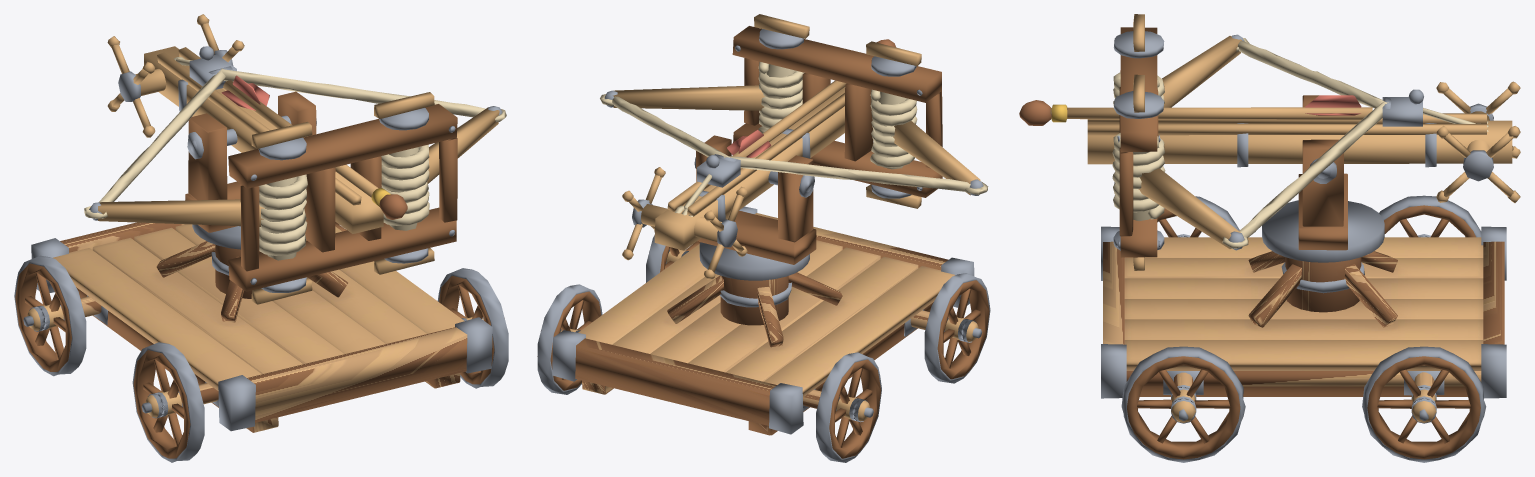
The picture shows the model from 3 angles, left to right: view 1: azimuth 30°, elevation 25°; view 2: azimuth 150°, elevation 25°; view 3: azimuth 270°, elevation 25°; orthographic projection. The views are drawn at different scales.
Parts seen in each view (by area): view 1: ballista_crossbow, ballista_body, ballista_wheel_rear_left, ballista_wheel_front_left, ballista_turret, ballista_fittings, ballista_wheel_front_right; view 2: ballista_crossbow, ballista_body, ballista_turret, ballista_wheel_front_left, ballista_wheel_rear_left, ballista_fittings, ballista_wheel_rear_right, ballista_wheel_front_right; view 3: ballista_body, ballista_crossbow, ballista_turret, ballista_wheel_front_right, ballista_wheel_rear_right, ballista_fittings, ballista_wheel_rear_left, ballista_wheel_front_left.
Boxes of the visible parts, bbox=[...] form: ballista_crossbow: bbox=[84, 14, 506, 304]; ballista_body: bbox=[53, 222, 467, 432]; ballista_wheel_rear_left: bbox=[14, 255, 86, 376]; ballista_wheel_front_left: bbox=[132, 342, 204, 462]; ballista_turret: bbox=[185, 91, 316, 249]; ballista_fittings: bbox=[31, 238, 492, 431]; ballista_wheel_front_right: bbox=[437, 268, 508, 388]; ballista_crossbow: bbox=[600, 14, 988, 279]; ballista_body: bbox=[575, 213, 954, 435]; ballista_turret: bbox=[694, 135, 816, 280]; ballista_wheel_front_left: bbox=[924, 273, 990, 383]; ballista_wheel_rear_left: bbox=[816, 352, 881, 462]; ballista_fittings: bbox=[552, 206, 974, 434]; ballista_wheel_rear_right: bbox=[537, 284, 602, 394]; ballista_wheel_front_right: bbox=[646, 235, 700, 282]; ballista_body: bbox=[1103, 237, 1504, 405]; ballista_crossbow: bbox=[1019, 14, 1520, 270]; ballista_turret: bbox=[1262, 95, 1384, 262]; ballista_wheel_front_right: bbox=[1121, 346, 1245, 462]; ballista_wheel_rear_right: bbox=[1362, 346, 1486, 462]; ballista_fittings: bbox=[1101, 226, 1506, 398]; ballista_wheel_rear_left: bbox=[1379, 195, 1481, 237]; ballista_wheel_front_left: bbox=[1157, 196, 1239, 237].
Size of the model in its own units: 2.54 by 1.86 by 2.59.
8 materials, 1 textured.
